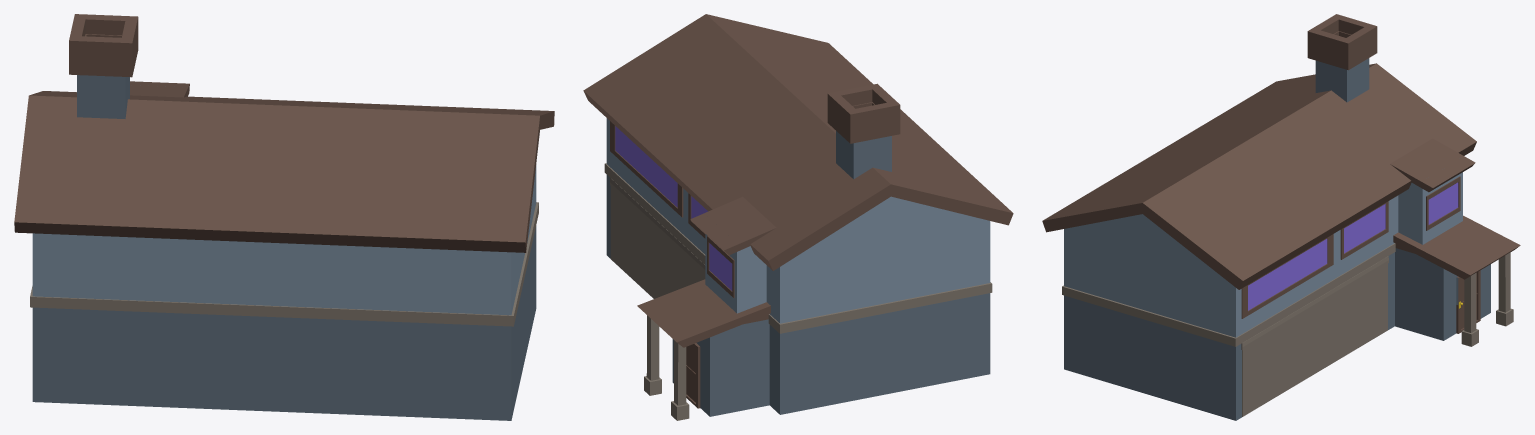
Rendered from CALLE6_CASA2_028.fbx.
3 renders of one model, left to right at view 1: azimuth 30°, elevation 25°; view 2: azimuth 150°, elevation 25°; view 3: azimuth 270°, elevation 25°, orthographic. The views are drawn at different scales.
Visible parts, largest first — view 1: CASA2.028; view 2: CASA2.028; view 3: CASA2.028.
Part boxes in pixels (<box>): CASA2.028: <box>14,14,554,420</box>; CASA2.028: <box>583,14,1013,420</box>; CASA2.028: <box>1042,14,1520,420</box>.
Size of the model in its own units: 1157 by 680 by 1172.
